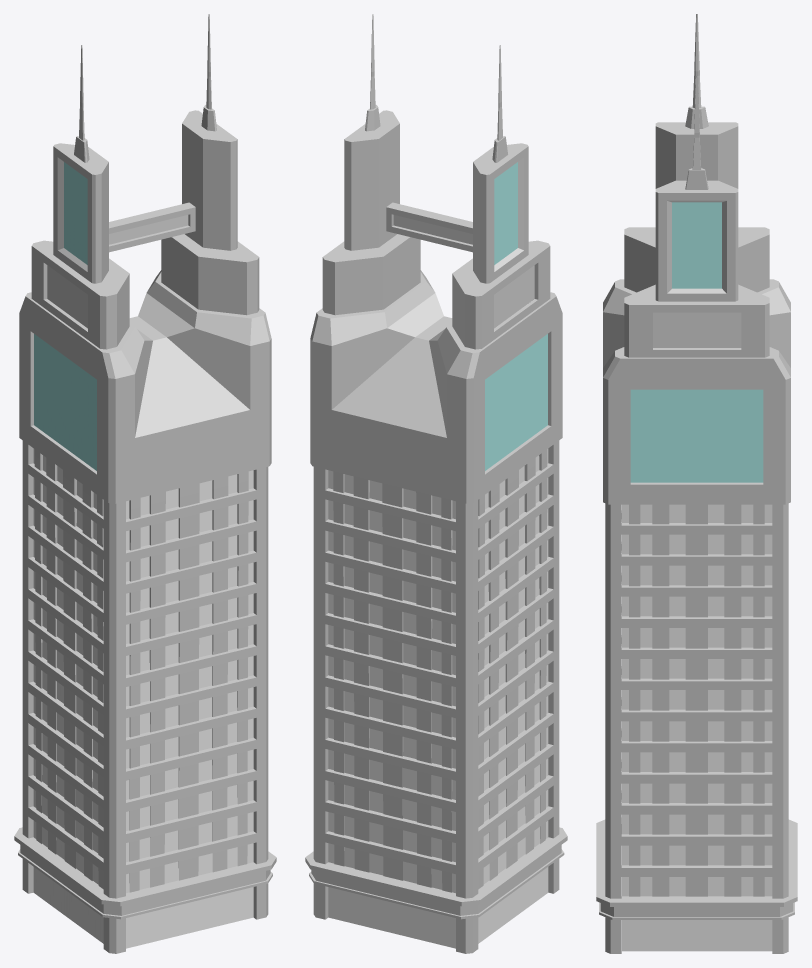
File: classMain2.gltf
3 views of the same model, side by side, from view 1: azimuth 30°, elevation 25°; view 2: azimuth 150°, elevation 25°; view 3: azimuth 270°, elevation 25° (orthographic).
Parts seen in each view (by area): view 1: Skyscr_09_A.002; view 2: Skyscr_09_A.002; view 3: Skyscr_09_A.002.
Part boxes in pixels (box(x1,y1,x2,y2)): Skyscr_09_A.002: box(14, 14, 276, 953); Skyscr_09_A.002: box(305, 14, 567, 953); Skyscr_09_A.002: box(596, 14, 797, 953).
Size of the model in its own units: 0.9931 by 4.73 by 0.9931.
